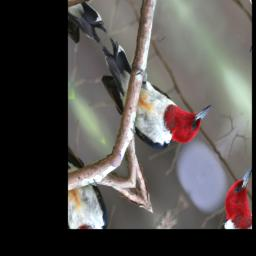Woodpecker: (87, 0, 215, 179)
